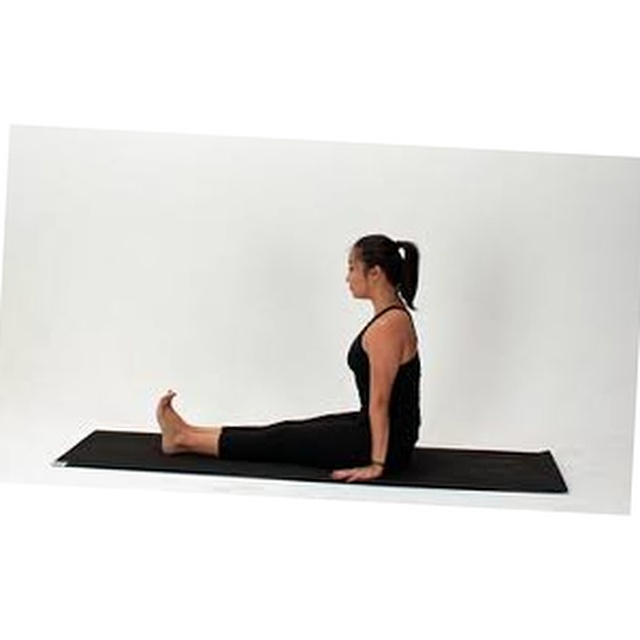Staff_Pose: (154, 233, 424, 484)
